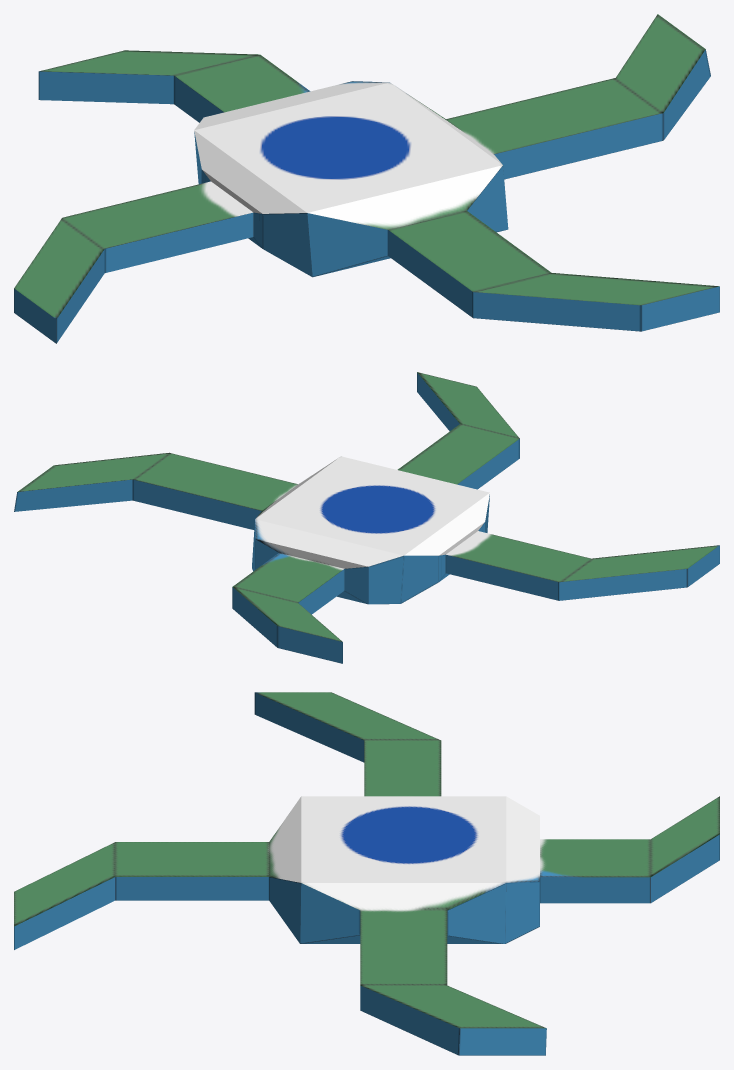
Rendered from bossModelGunBullet1.fbx.
3 renders of one model, top to bottom at view 1: azimuth 30°, elevation 25°; view 2: azimuth 150°, elevation 25°; view 3: azimuth 270°, elevation 25°, orthographic. The views are drawn at different scales.
Visible parts, largest first — view 1: Cube; view 2: Cube; view 3: Cube.
Boxes of the visible parts, bbox=[...] form: Cube: bbox=[14, 14, 719, 343]; Cube: bbox=[14, 372, 719, 663]; Cube: bbox=[14, 692, 719, 1055].
Bounding box in the file's own units: 783 × 63.55 × 688.
Materials: 1 (1 with a texture image).
